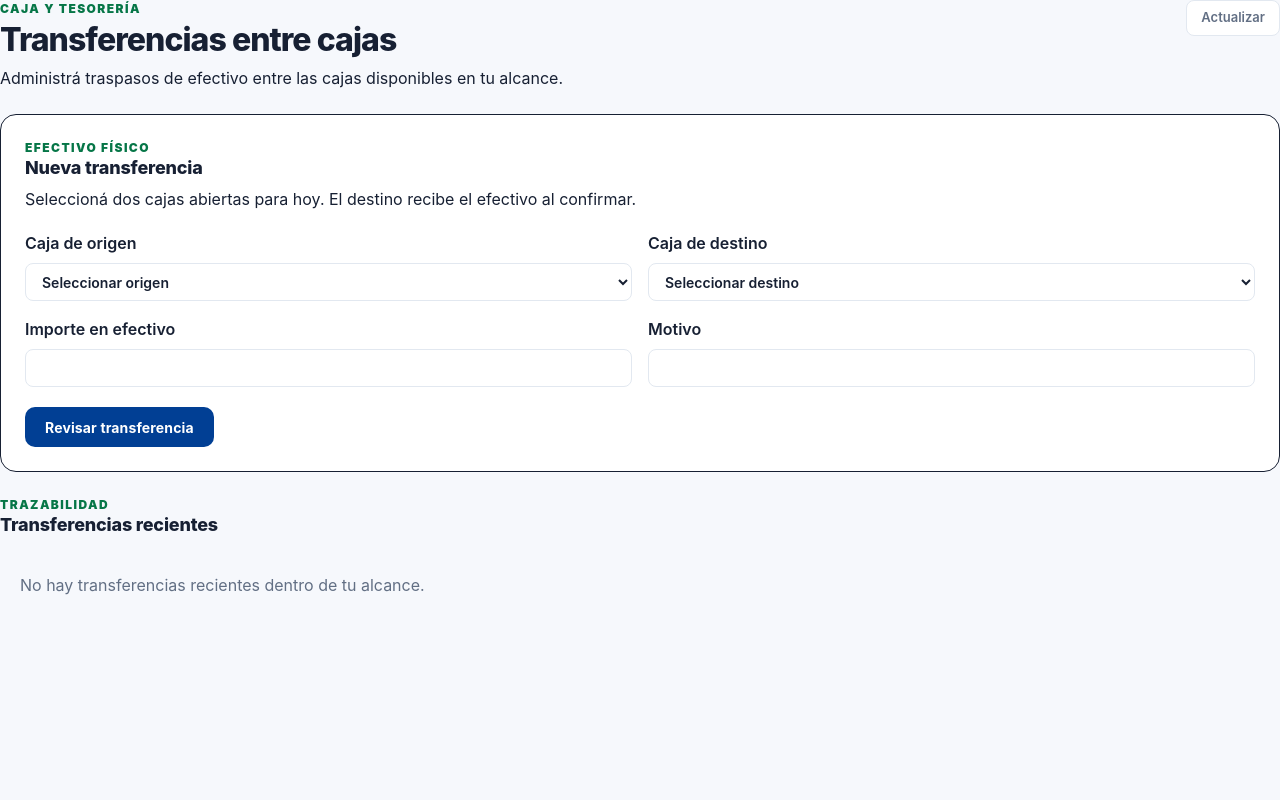
Test case: Opciones vigentes e importes de entrada › limpia la caja de origen desaparecida al actualizar antes de revisar
The width and height of the screenshot is (1280, 800).
Select "Posadas · cajera.posadas · Caja #11" in the dropdown with id "transferencia-origen" at (328,282), box [25, 263, 632, 301]
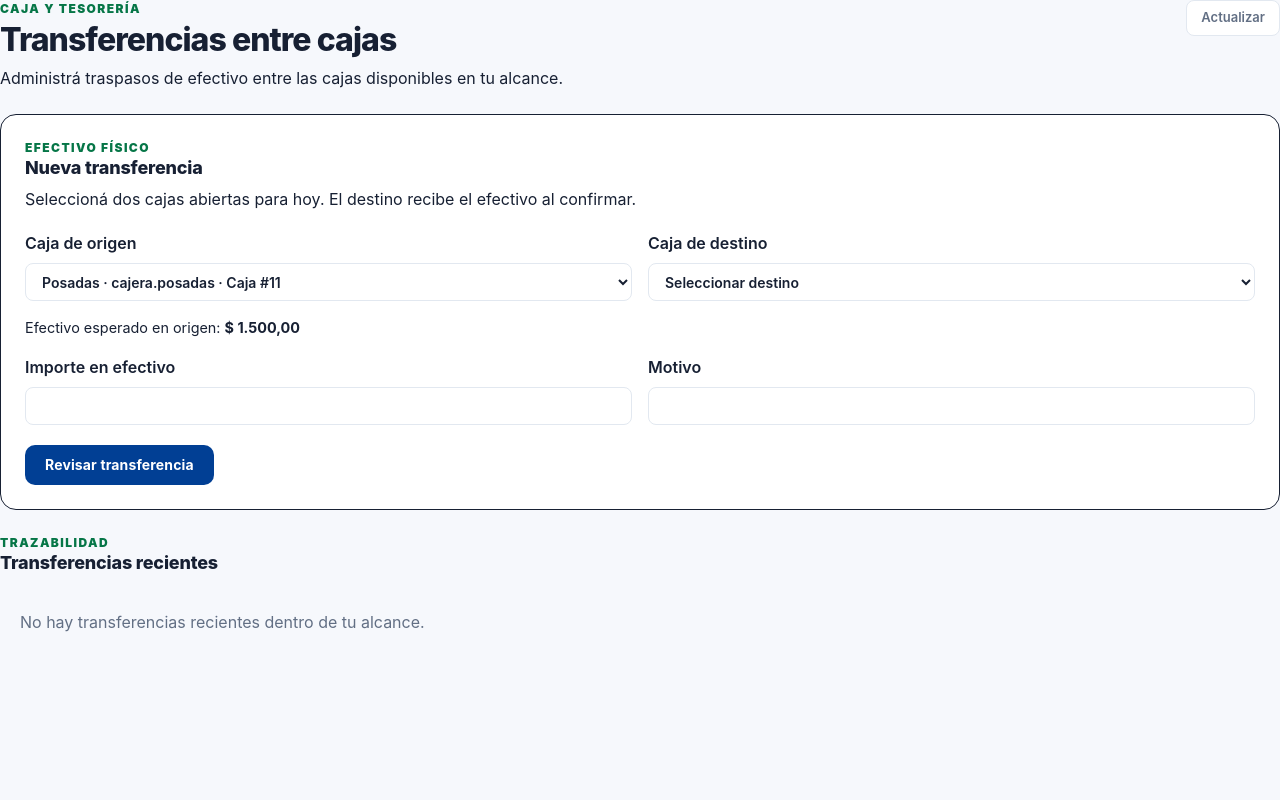
Select "Eldorado · cajero.eldorado · Caja #12" in the dropdown with id "transferencia-destino" at (952,282), box [648, 263, 1255, 301]
Type "250.50" into the number field with id "transferencia-importe" at (328,406), box [25, 387, 632, 425]
Type "Reposición de efectivo" into the field with id "transferencia-motivo" at (952,406), box [648, 387, 1255, 425]
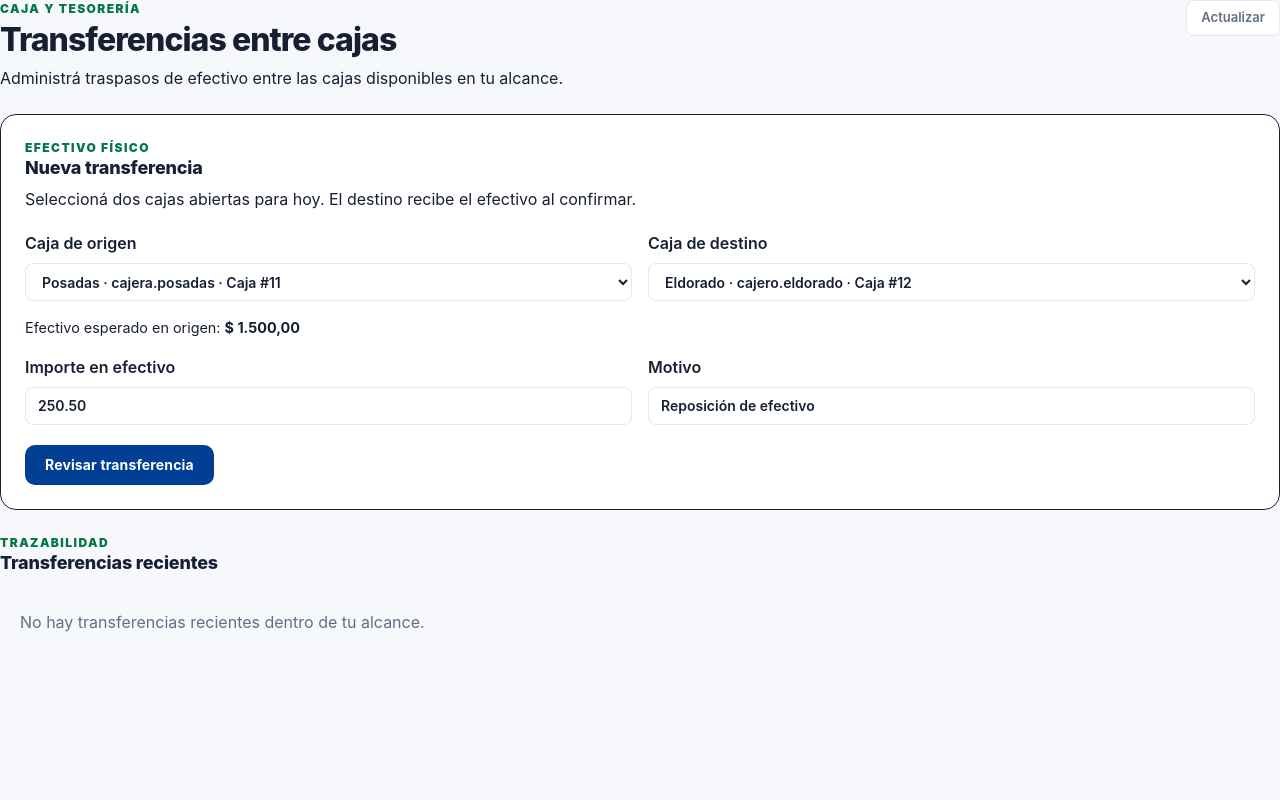
Click the button "Actualizar" at (1233,18), box [1186, 0, 1279, 36]
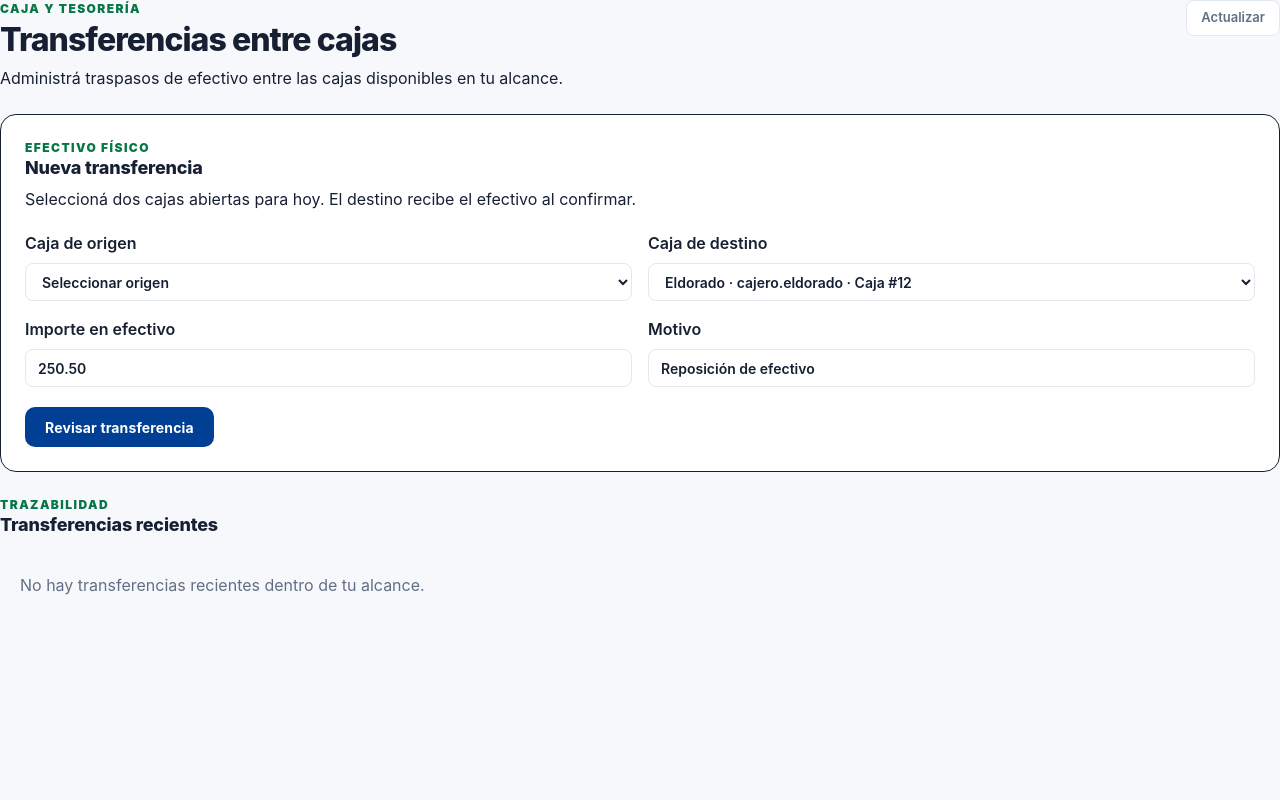
Submit the form, box [25, 231, 1255, 447]
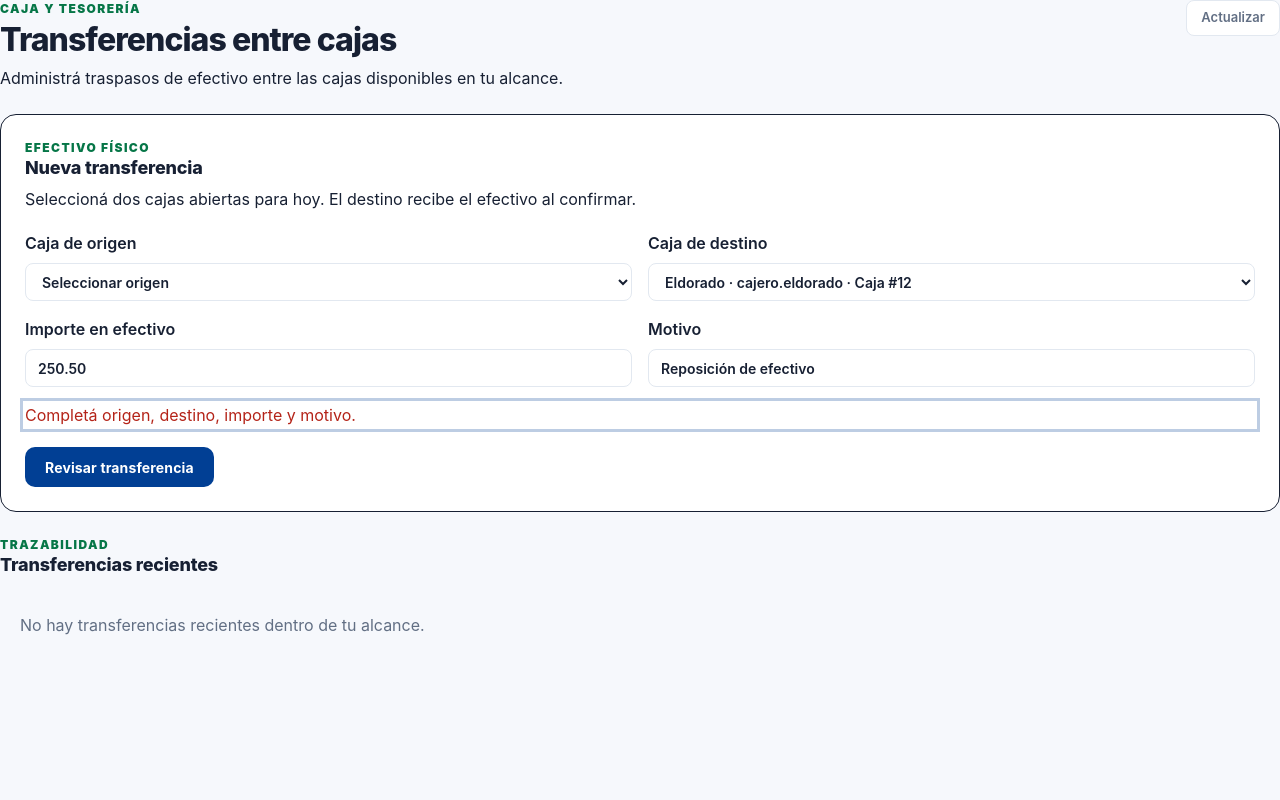
Now the message "Completá origen, destino, importe y motivo." is shown, box [25, 405, 356, 425]
Select "Eldorado · cajera.respaldo · Caja #13" in the dropdown with id "transferencia-origen" at (328,282), box [25, 263, 632, 301]
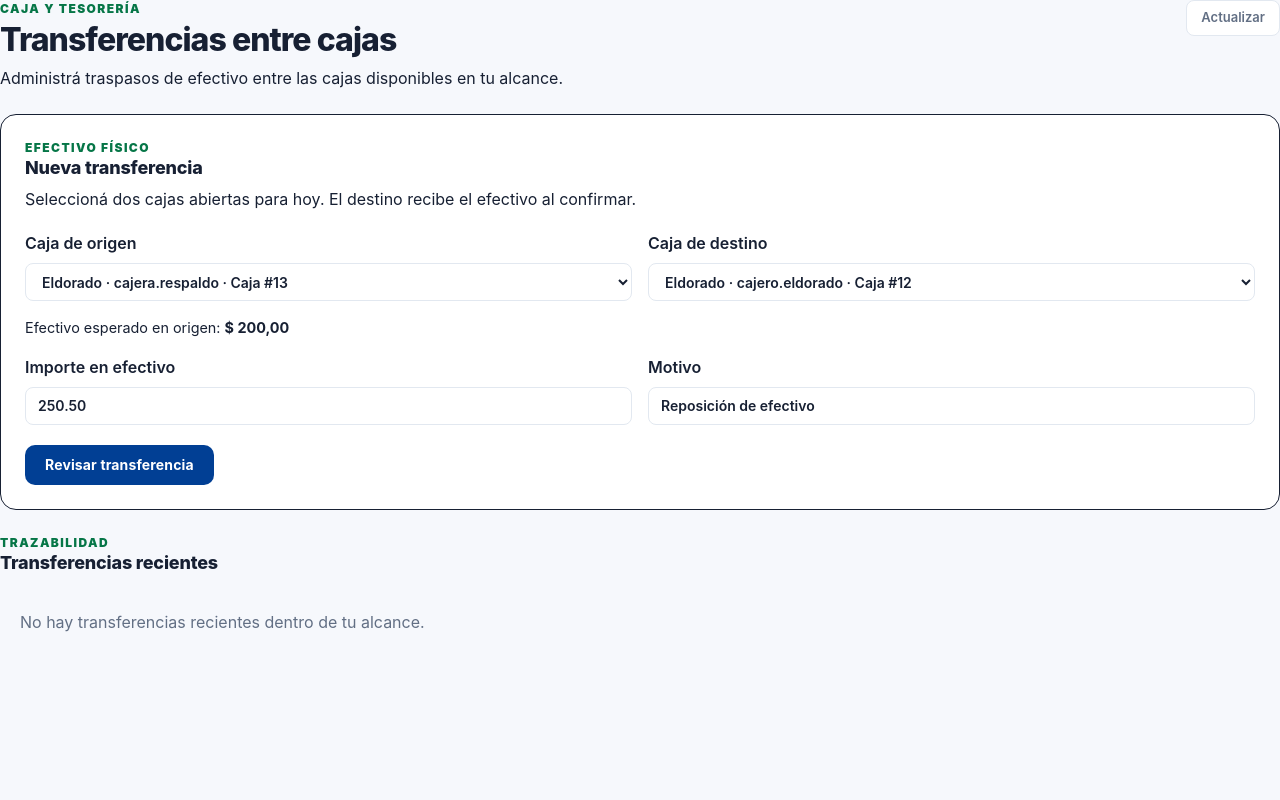
Submit the form, box [25, 231, 1255, 485]
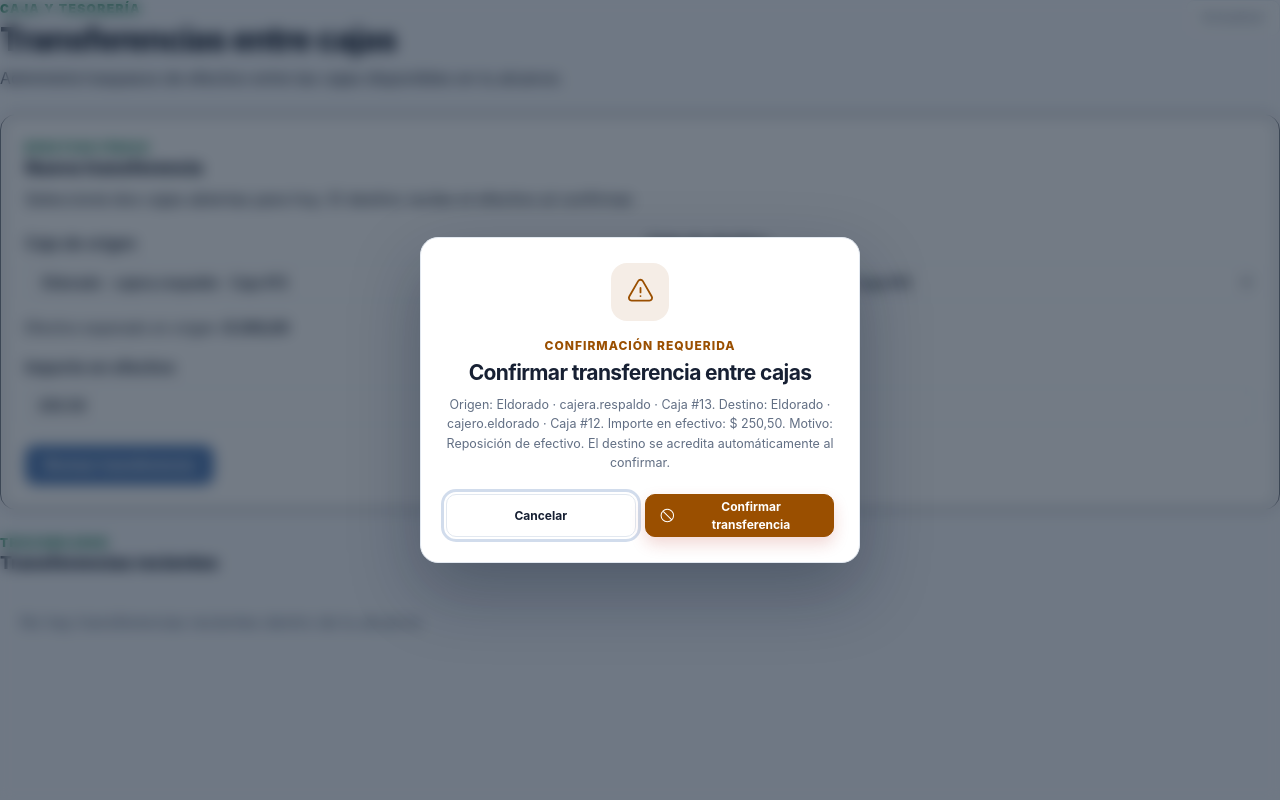
Now the dialog shows "Caja #13", box [446, 397, 833, 470]
